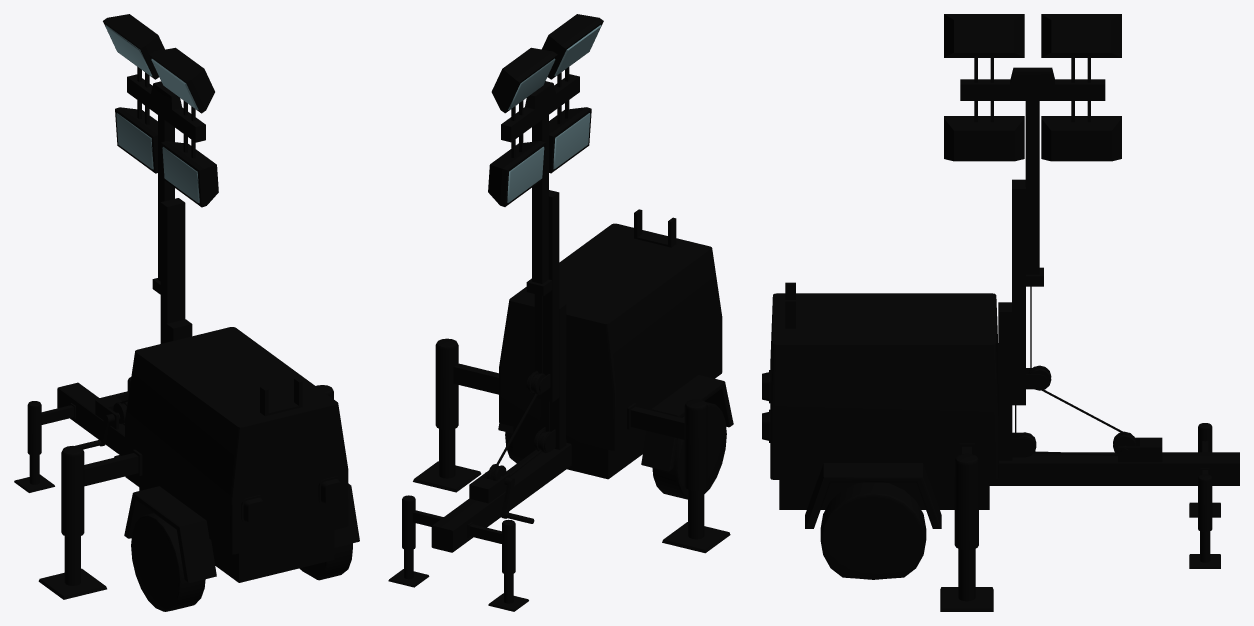
File: 23_LightGenerator.fbx
3 renders of one model, left to right at view 1: azimuth 30°, elevation 25°; view 2: azimuth 150°, elevation 25°; view 3: azimuth 270°, elevation 25°, orthographic. The views are drawn at different scales.
Visible parts, largest first — view 1: pCylinder13 (×2); view 2: pCylinder13 (×2); view 3: pCylinder13.
Part boxes in pixels (<box>): pCylinder13 (×2): <box>14,14,359,611</box>; pCylinder13 (×2): <box>388,14,733,611</box>; pCylinder13: <box>762,14,1239,611</box>.
Bounding box in the file's own units: 190 × 304 × 255.
